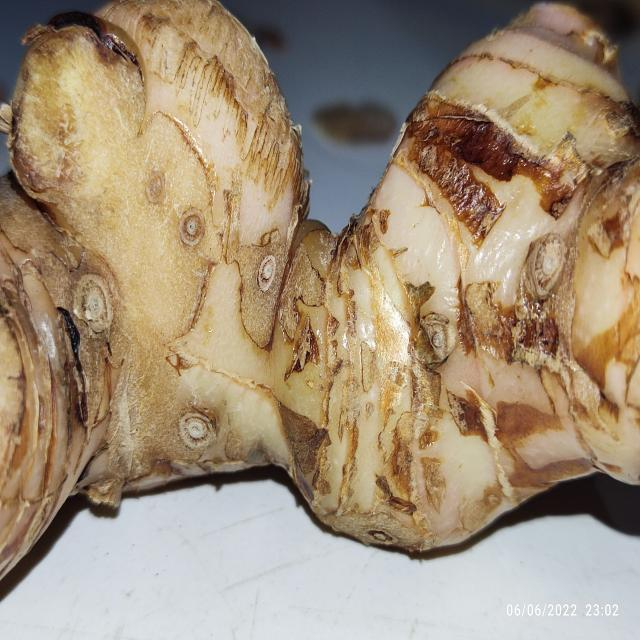ginger: (7, 17, 640, 526)
